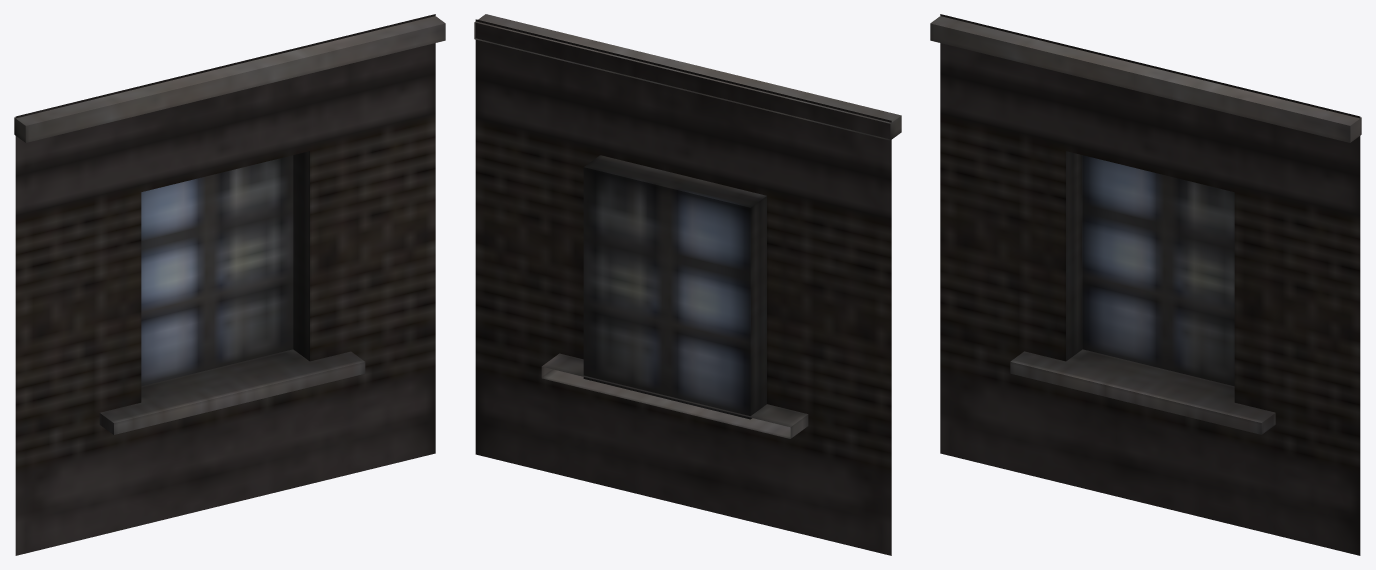
File: B10_WindowA.FBX
3 views of the same model, side by side, from view 1: azimuth 30°, elevation 25°; view 2: azimuth 150°, elevation 25°; view 3: azimuth 330°, elevation 25° (orthographic).
Visible parts, largest first — view 1: B10_WindowA; view 2: B10_WindowA; view 3: B10_WindowA.
Part boxes in pixels (x1,y1,x2,y2): B10_WindowA: (14, 14, 445, 555); B10_WindowA: (474, 14, 901, 555); B10_WindowA: (930, 14, 1361, 555).
Bounding box in the file's own units: 4 × 4 × 0.5323.
